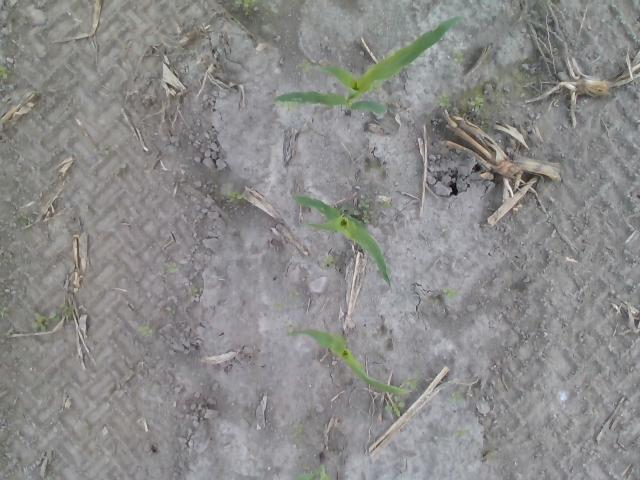Maize: (271, 16, 461, 118), (290, 195, 392, 292), (281, 328, 412, 394), (292, 452, 330, 480)
Weeds: (30, 312, 61, 332), (384, 395, 406, 418), (356, 209, 374, 229), (434, 91, 452, 107), (467, 96, 483, 112), (280, 100, 298, 114), (442, 286, 458, 300), (402, 376, 418, 390), (138, 321, 152, 336), (59, 302, 72, 318), (331, 204, 348, 216), (226, 190, 243, 202), (296, 58, 310, 72), (321, 254, 335, 268), (235, 0, 257, 8), (452, 428, 469, 438), (114, 164, 128, 176), (164, 262, 179, 273), (452, 50, 464, 63), (188, 284, 199, 298), (450, 391, 462, 403), (0, 64, 9, 78), (358, 198, 370, 208), (380, 200, 391, 210), (294, 424, 303, 436), (348, 209, 361, 216), (290, 290, 300, 298), (22, 214, 28, 226), (0, 306, 6, 317), (274, 302, 282, 309)
